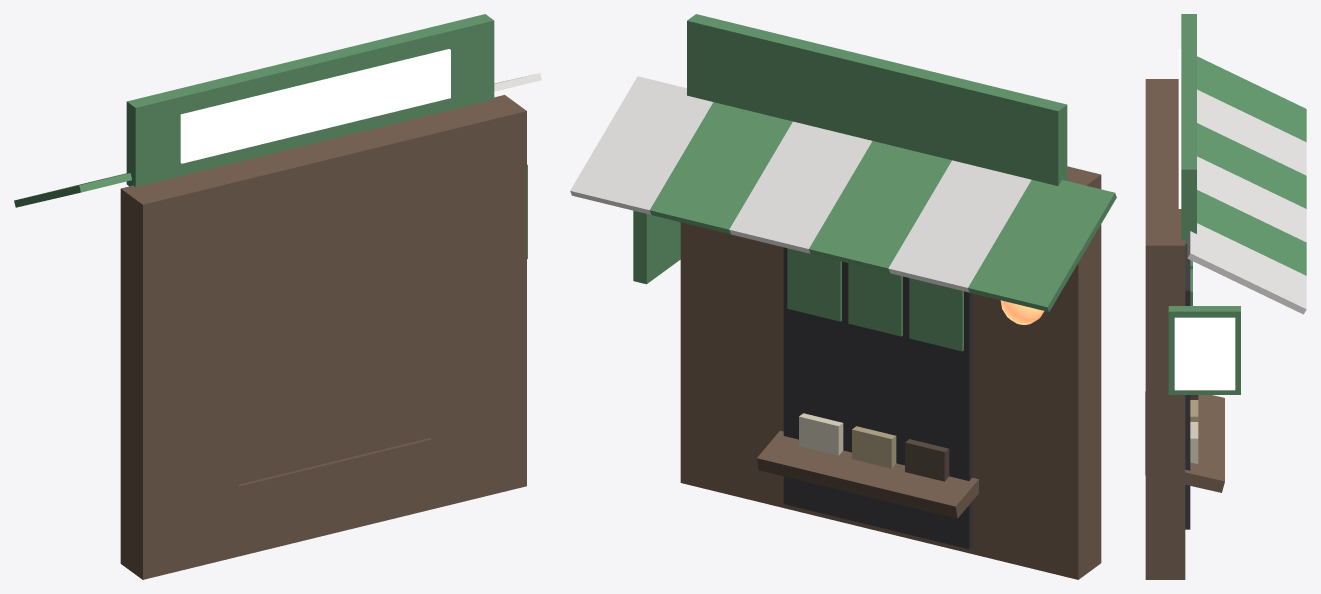
Rendered from prop_mise_wagashi.glb.
The picture shows the model from 3 angles, left to right: view 1: azimuth 30°, elevation 25°; view 2: azimuth 150°, elevation 25°; view 3: azimuth 270°, elevation 25°; orthographic projection. The views are drawn at different scales.
Parts seen in each view (by area): view 1: mise_wagashi; view 2: mise_wagashi; view 3: mise_wagashi.
Part boxes in pixels (<box>): mise_wagashi: <box>14,14,541,579</box>; mise_wagashi: <box>570,14,1116,579</box>; mise_wagashi: <box>1145,14,1306,579</box>.
Size of the model in its own units: 3.6 by 3.39 by 1.23.
